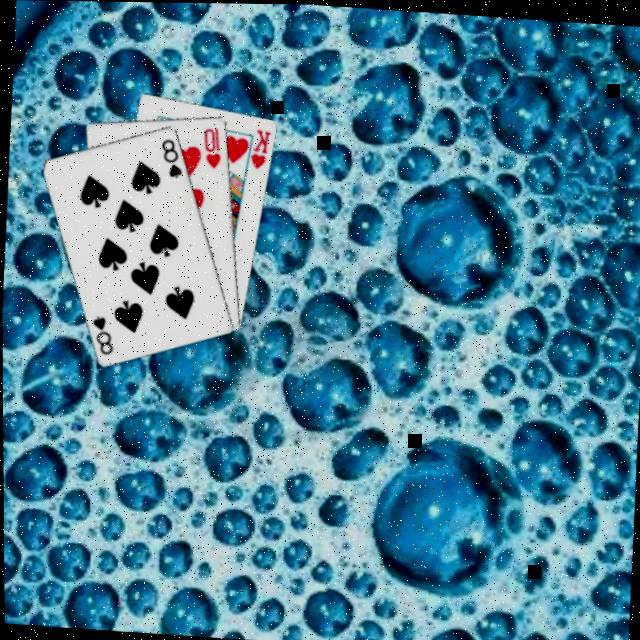10H: (202, 125, 228, 172)
8S: (158, 136, 188, 181), (90, 313, 120, 358)
KH: (250, 126, 276, 172)
